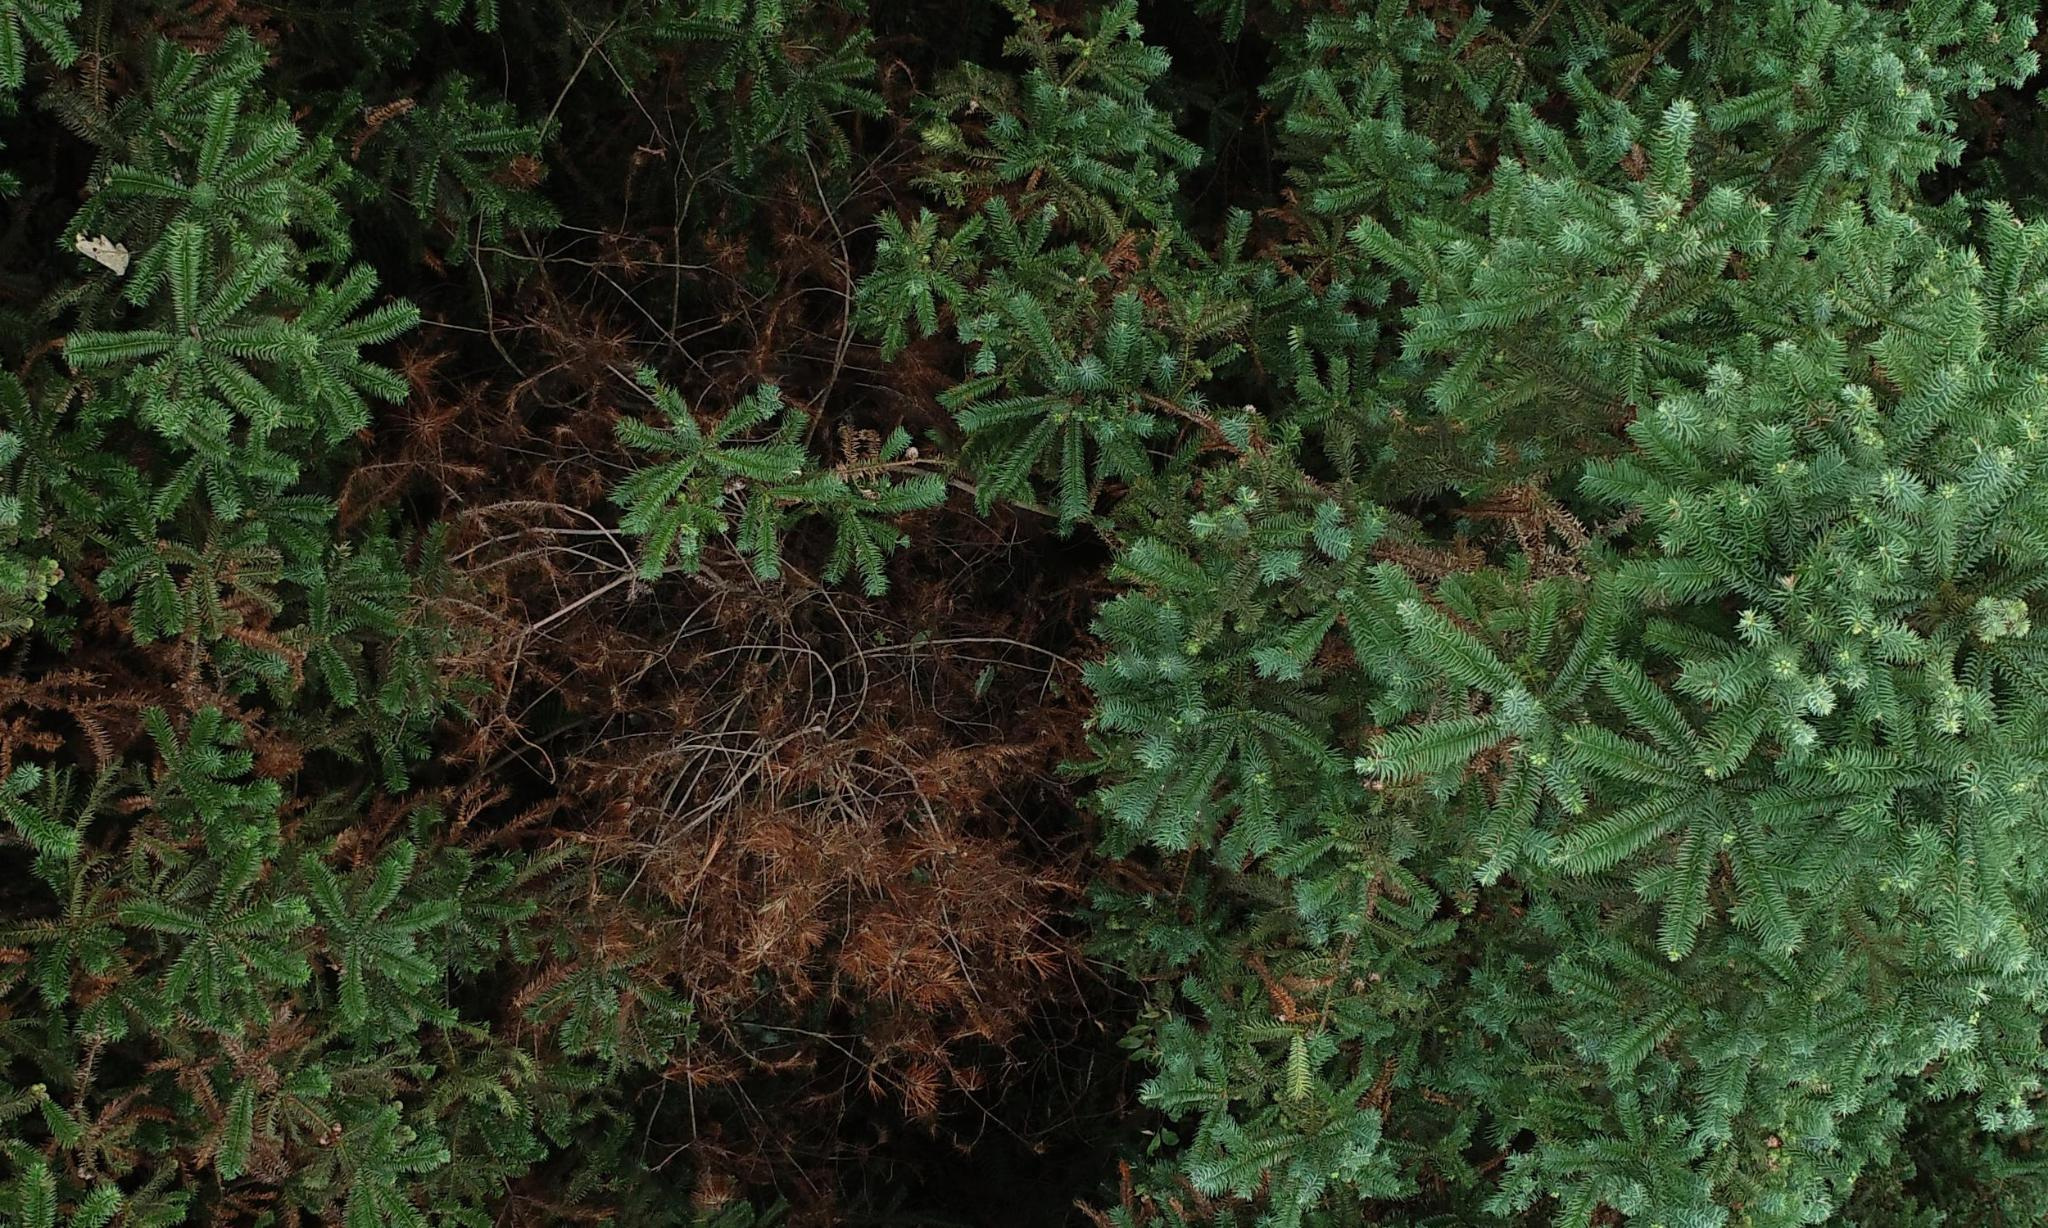heavy: (352, 206, 1161, 1155)
light: (1262, 425, 1680, 1121), (1, 551, 325, 1168)
